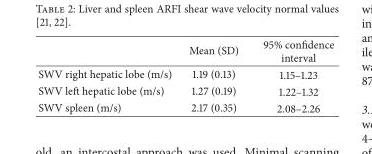table: (37, 36, 333, 115)
table column: (37, 36, 179, 115), (250, 36, 333, 115), (179, 36, 250, 115)
table column header: (37, 36, 333, 65)
table row: (37, 36, 333, 65), (37, 65, 333, 82), (37, 82, 333, 99), (37, 99, 333, 115)
